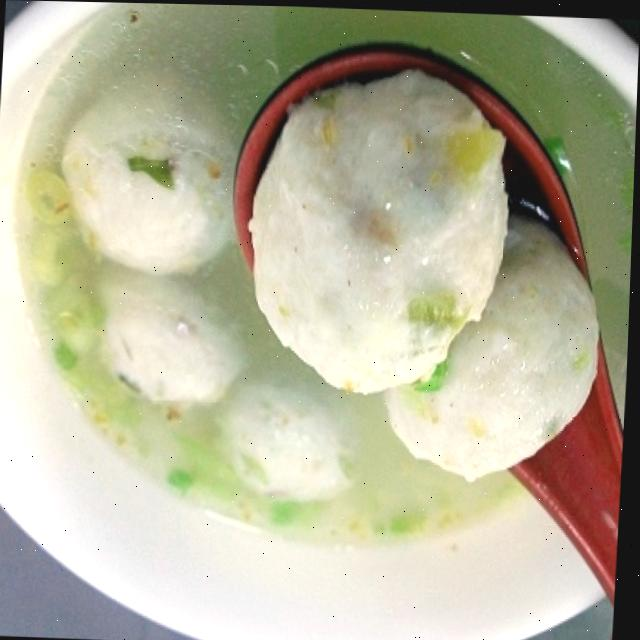熟制海鲜: (0, 19, 628, 626)
